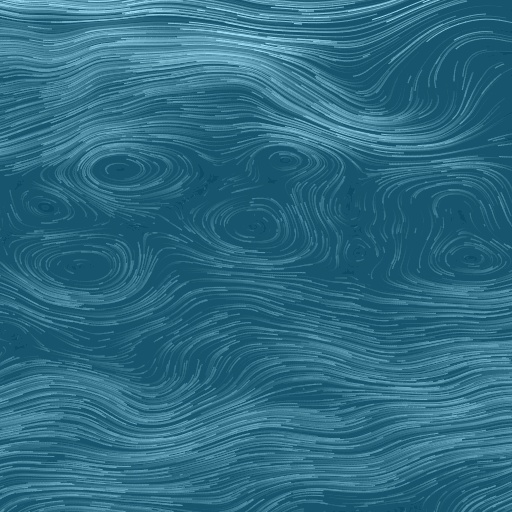eddy: (26, 235, 132, 297), (72, 143, 176, 199), (208, 193, 292, 257), (431, 224, 505, 280), (17, 186, 71, 225), (265, 146, 307, 175)
